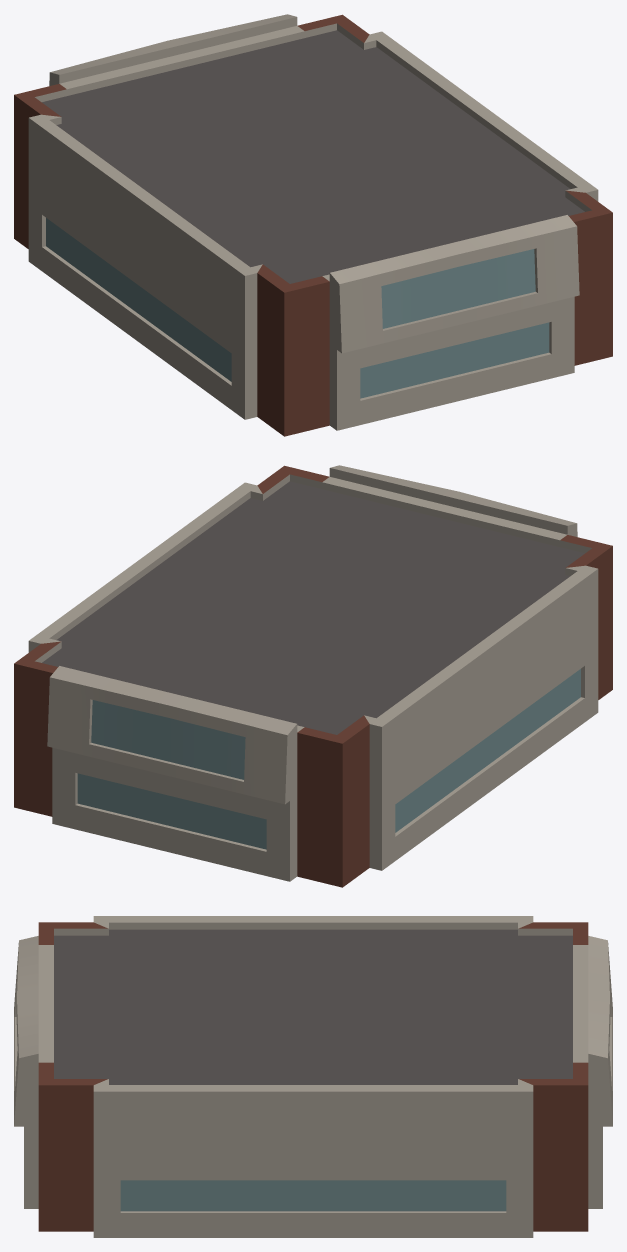
Rendered from SGM_Top.fbx.
The picture shows the model from 3 angles, top to bottom: view 1: azimuth 30°, elevation 25°; view 2: azimuth 150°, elevation 25°; view 3: azimuth 270°, elevation 25°; orthographic projection.
Parts seen in each view (by area): view 1: SGM_Top; view 2: SGM_Top; view 3: SGM_Top.
Boxes of the visible parts, box(x1,y1,x2,y2) form: SGM_Top: box(14, 14, 612, 436); SGM_Top: box(14, 465, 612, 887); SGM_Top: box(14, 916, 612, 1237).
Size of the model in its own units: 2283 by 943 by 3296.
